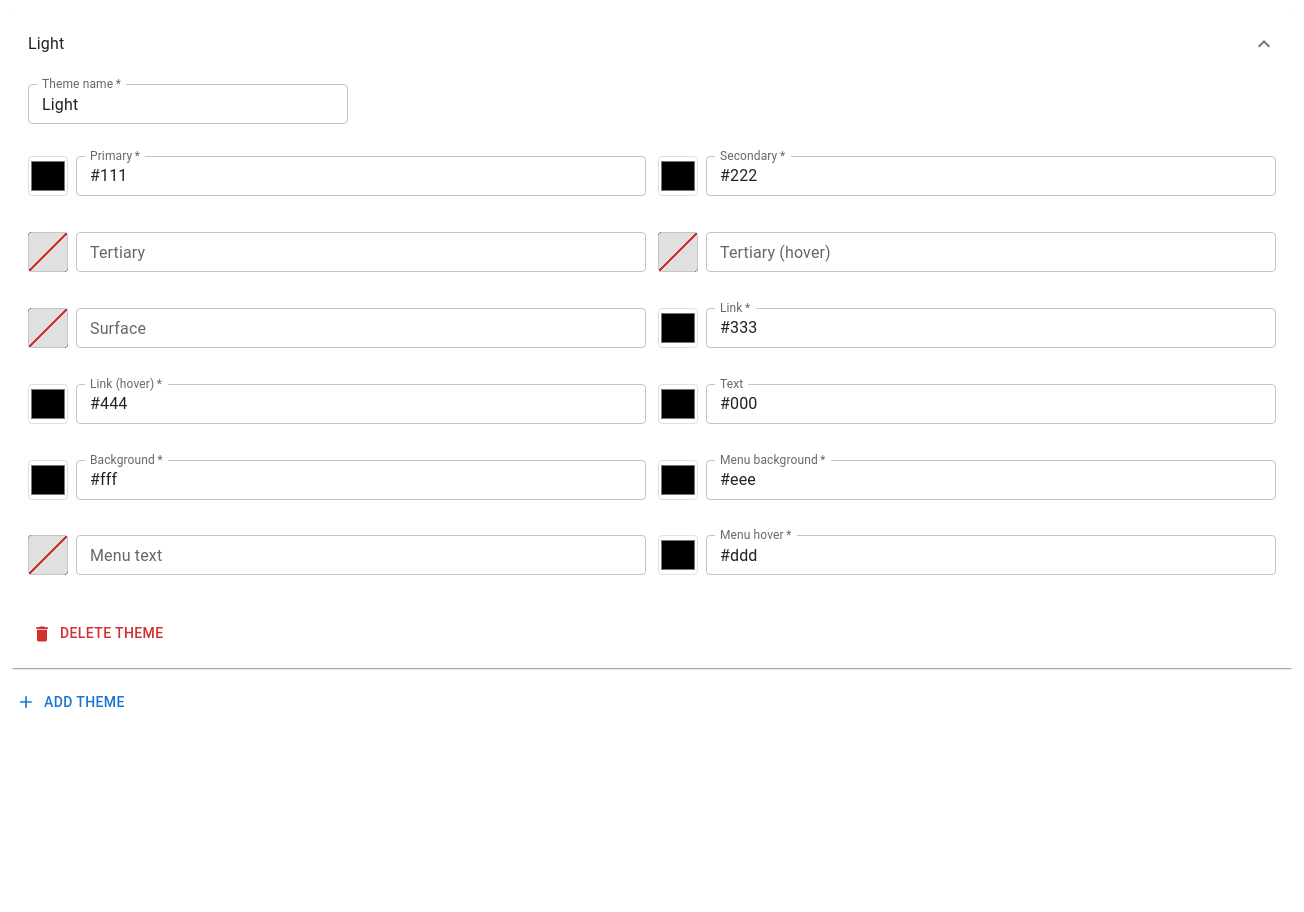
Scenario: ThemesTab › auto-saves the remaining set when a theme is deleted
This screenshot has width=1304, height=912.
Check: the text "Light" is shown, box x1=28 y1=32 x2=64 y2=56
Click the button "Delete theme": (100, 634) x1=28 y1=615 x2=172 y2=652
Wait 850 ms
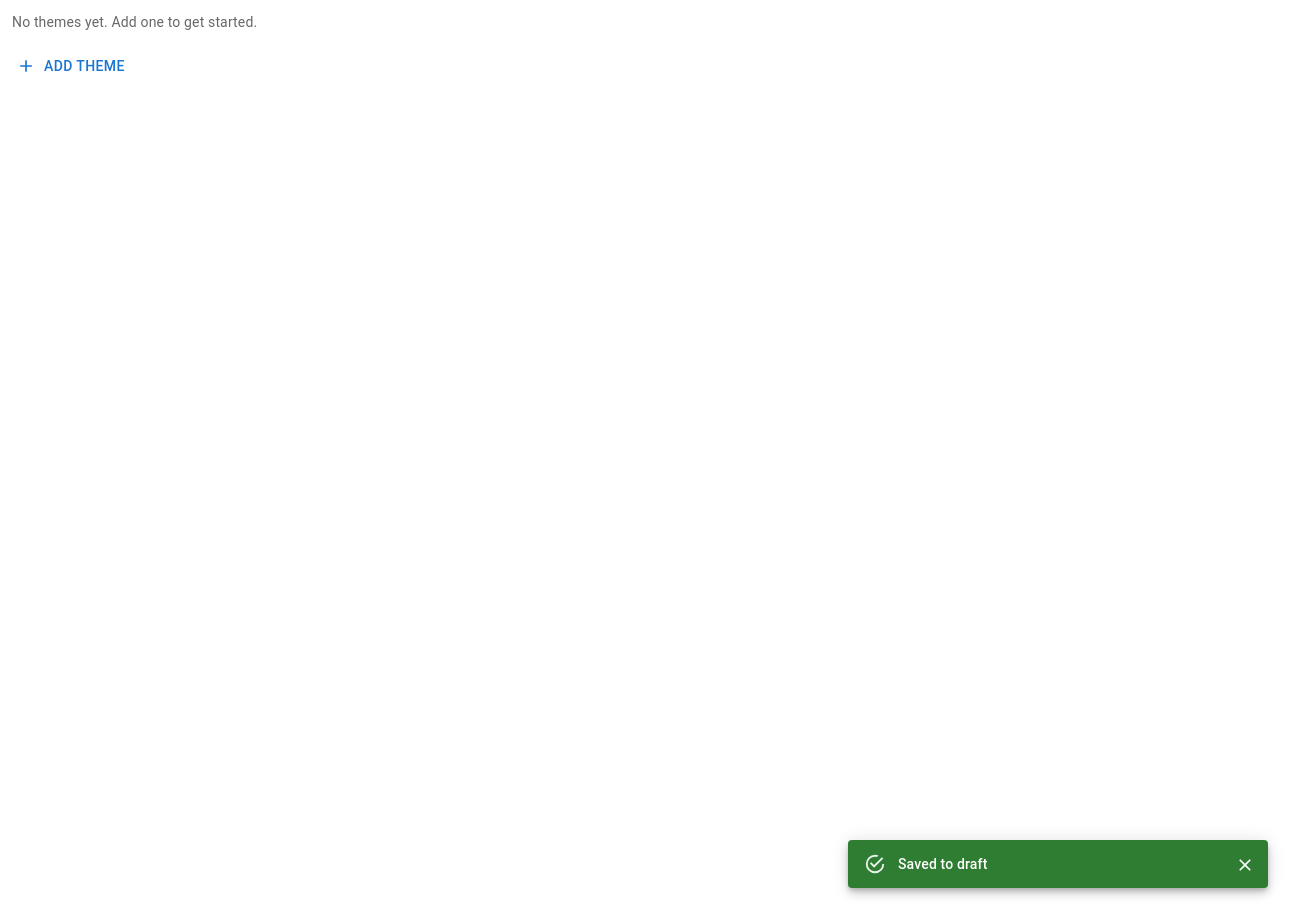
Check: the button "Light" is gone
